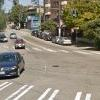Car: (1, 44, 31, 87)
